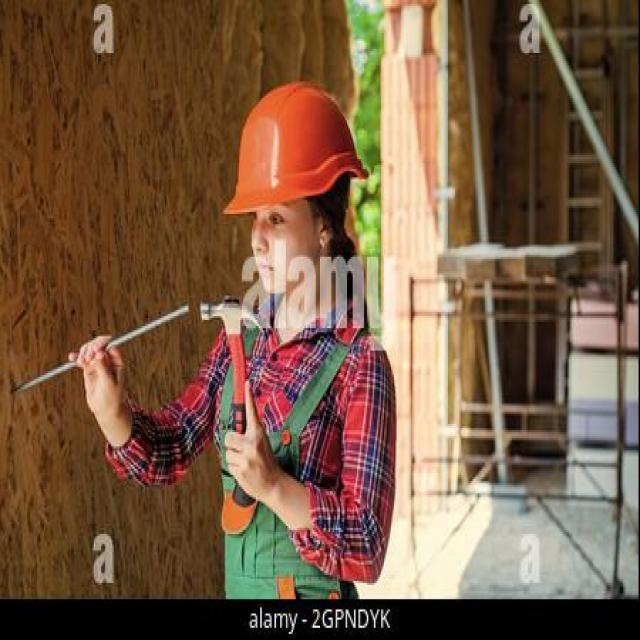hammer: (196, 286, 280, 466)
